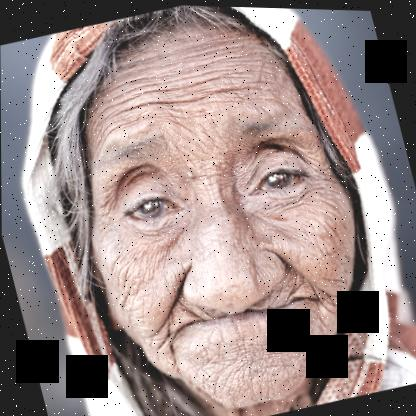Female: (44, 3, 392, 416)
